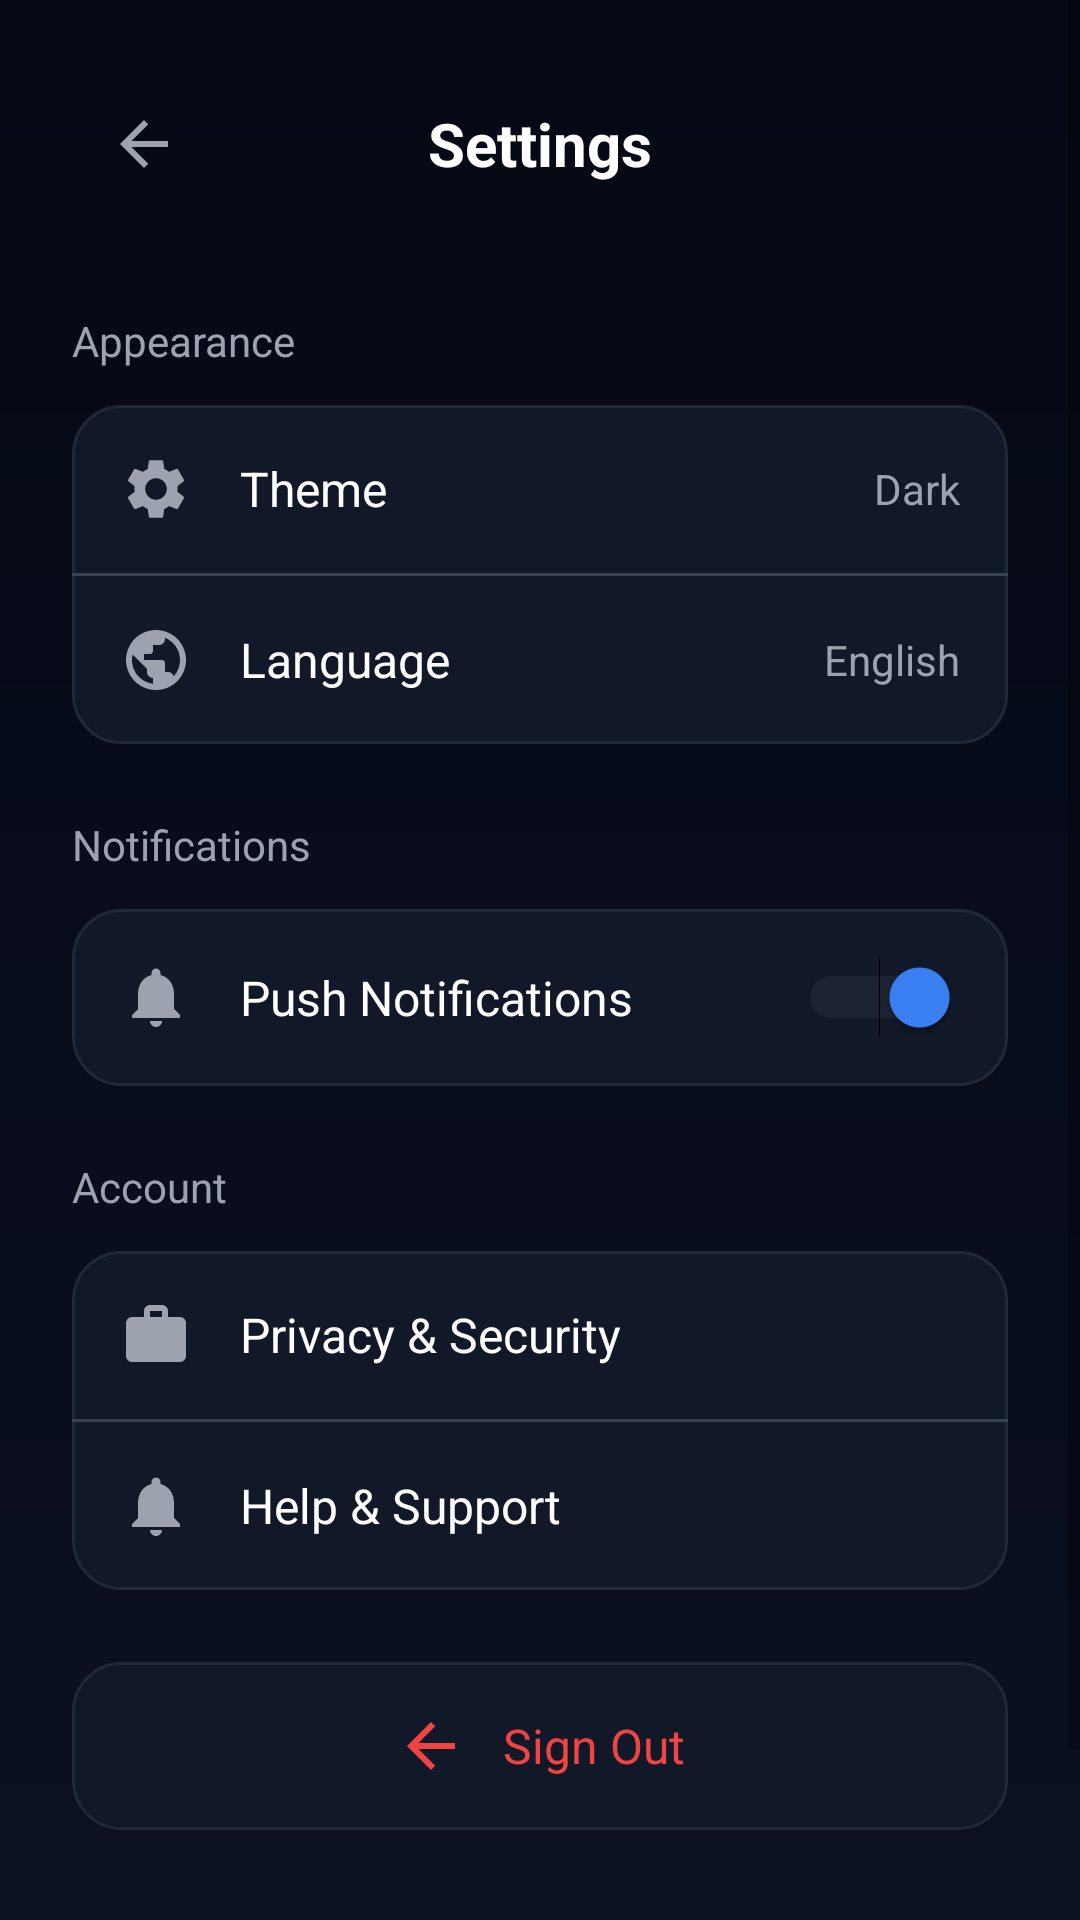

Icon bounding boxes for this 1080px x 1920px phone screenshot, format (x1, y1, x2, y2):
alerts: (132, 968, 180, 1027), (132, 1477, 180, 1536)
back arrow: (120, 120, 168, 168), (407, 1722, 455, 1770)
case: (126, 1305, 186, 1362)
globe: (126, 630, 186, 690)
settings: (128, 460, 184, 518)
